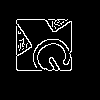G: (25, 25, 85, 83)
